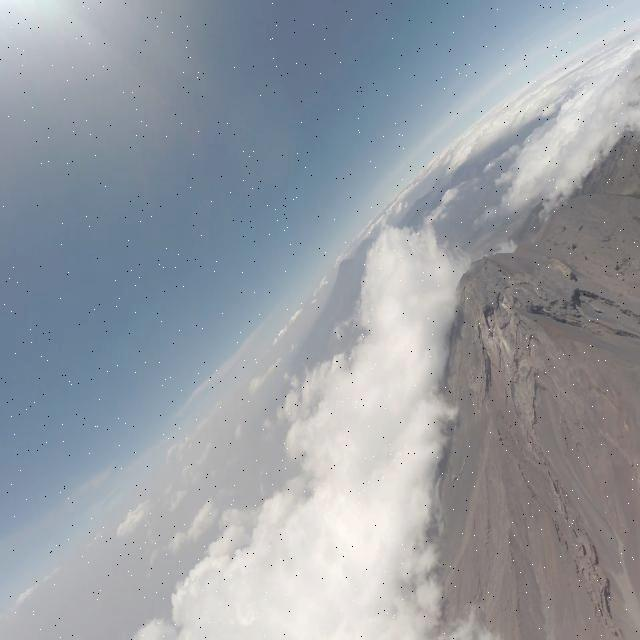Summit: (452, 246, 617, 490)
